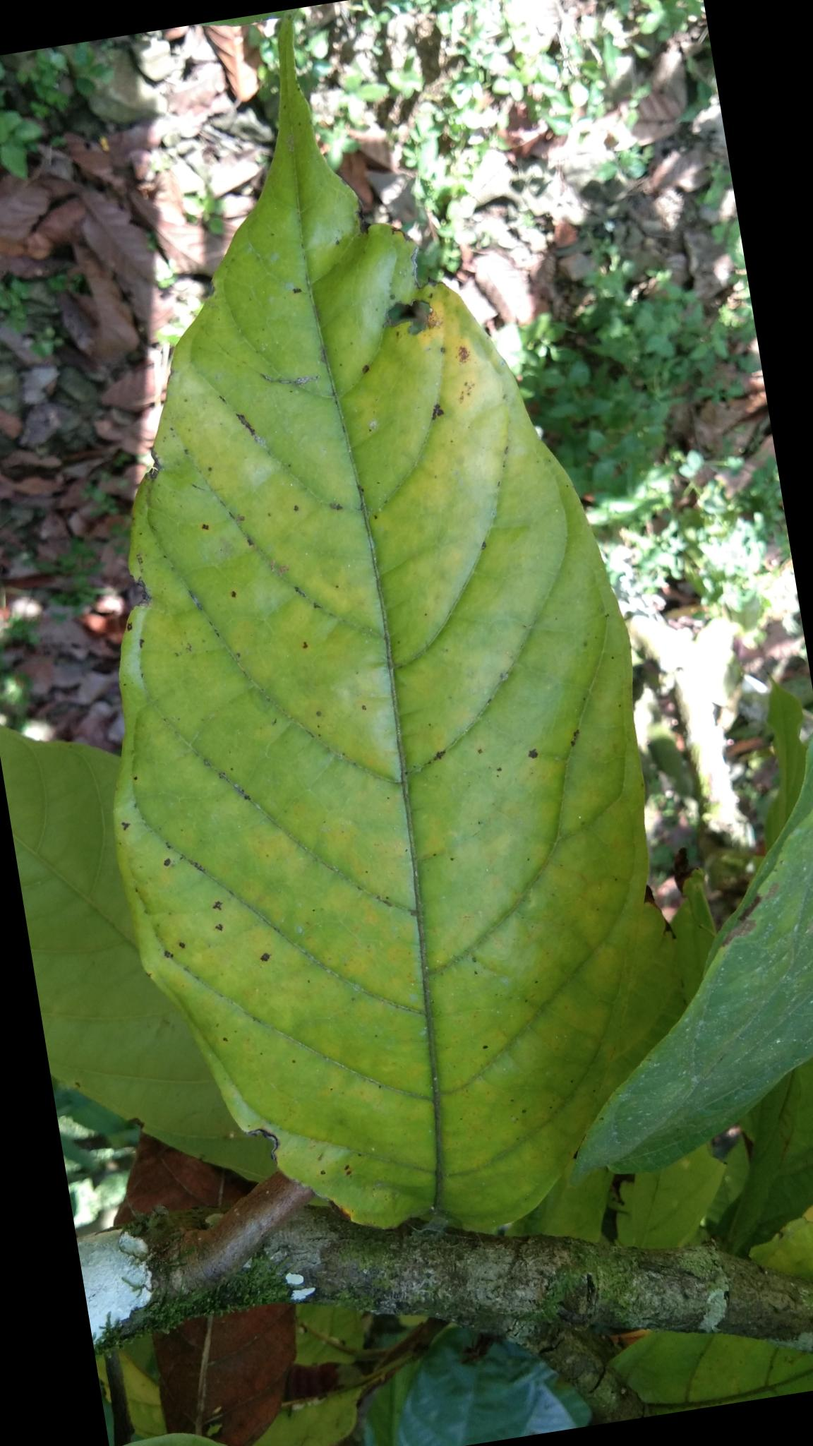Fosforo: (118, 65, 651, 1223)
